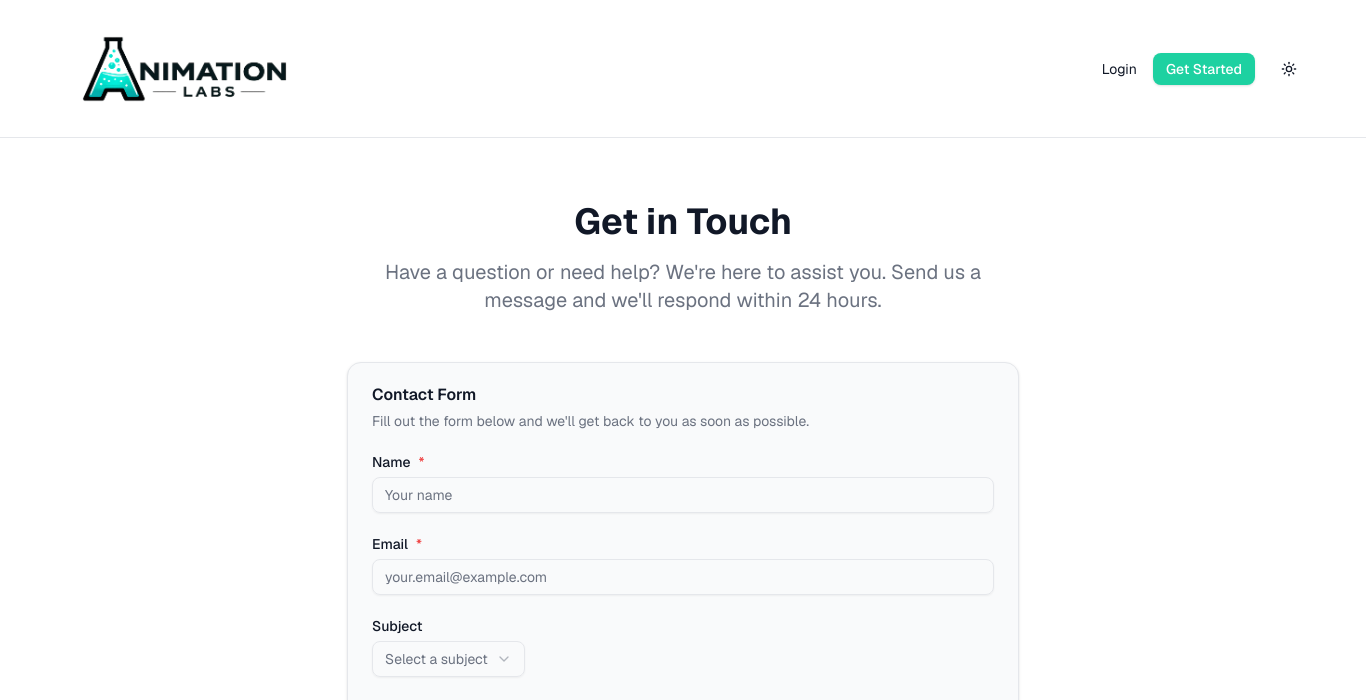
Test: Contact Page › displays error message on submission failure
The image size is (1366, 700).
In the field labelled "Name *": (683, 495) top-left (372, 477), bottom-right (994, 513), type "John Doe"
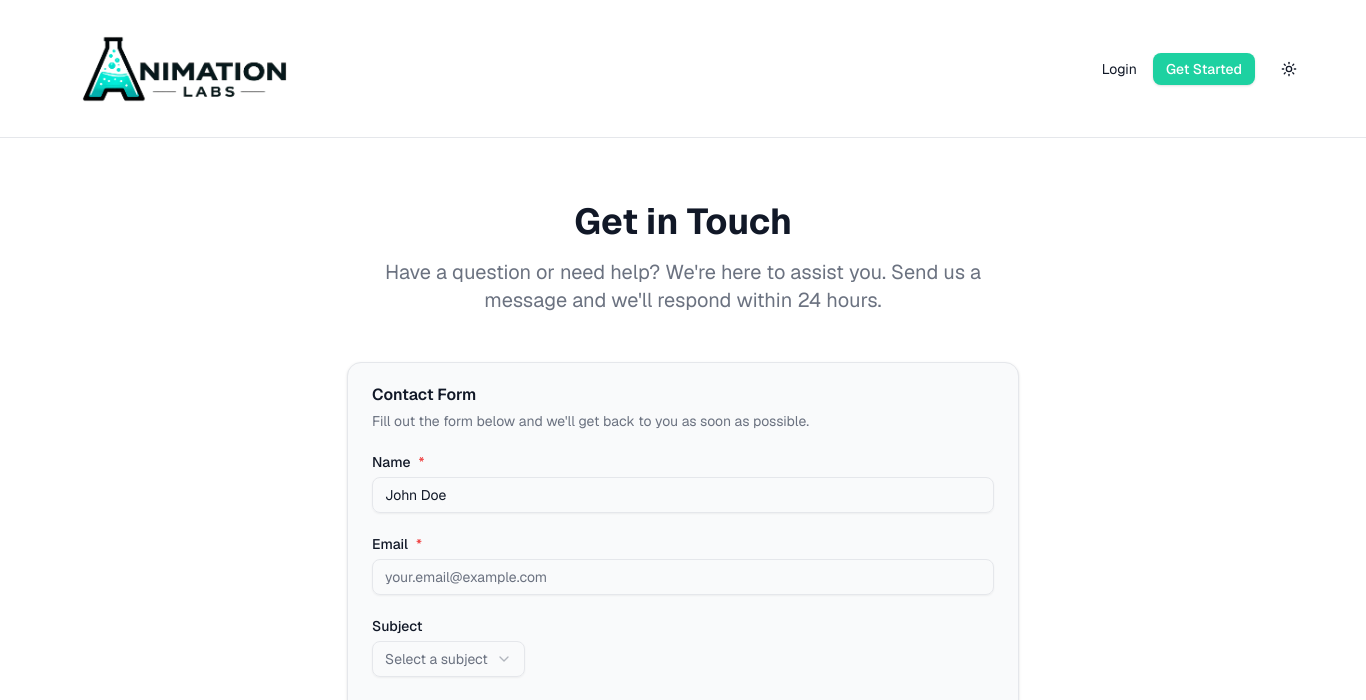
In the field labelled "Email *": (683, 577) top-left (372, 559), bottom-right (994, 595), type "john@example.com"
(page scrolled)
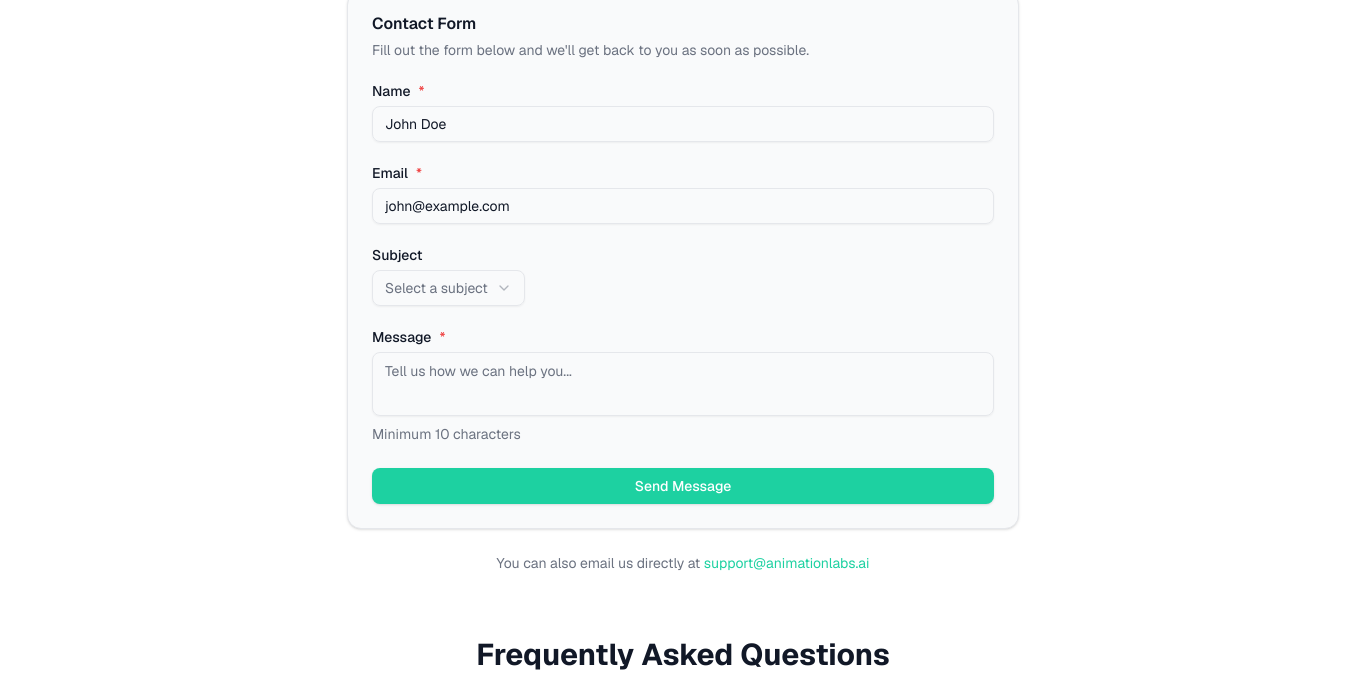
In the text box labelled "Message *": (683, 384) top-left (372, 352), bottom-right (994, 416), type "Test message content"
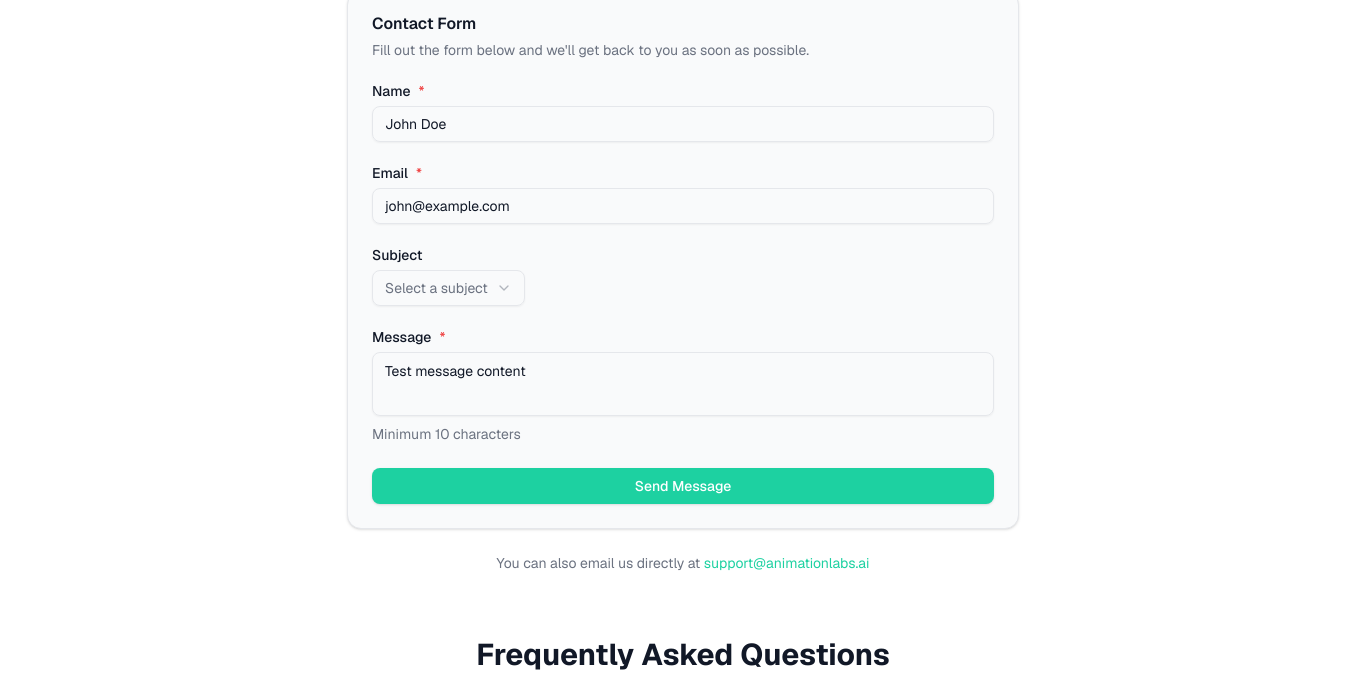
Click the button "Send Message": (683, 486) top-left (372, 468), bottom-right (994, 504)
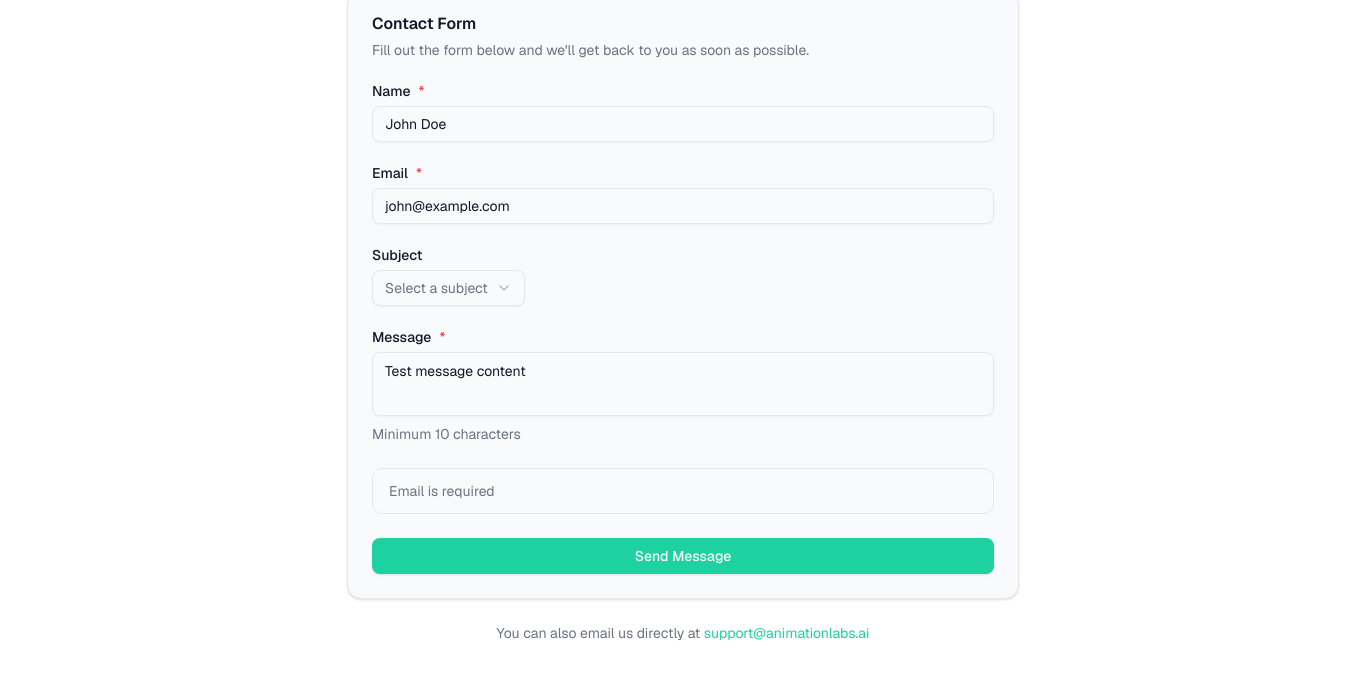
Expected: the text "Email is required" is shown, top-left (389, 482), bottom-right (495, 500)
